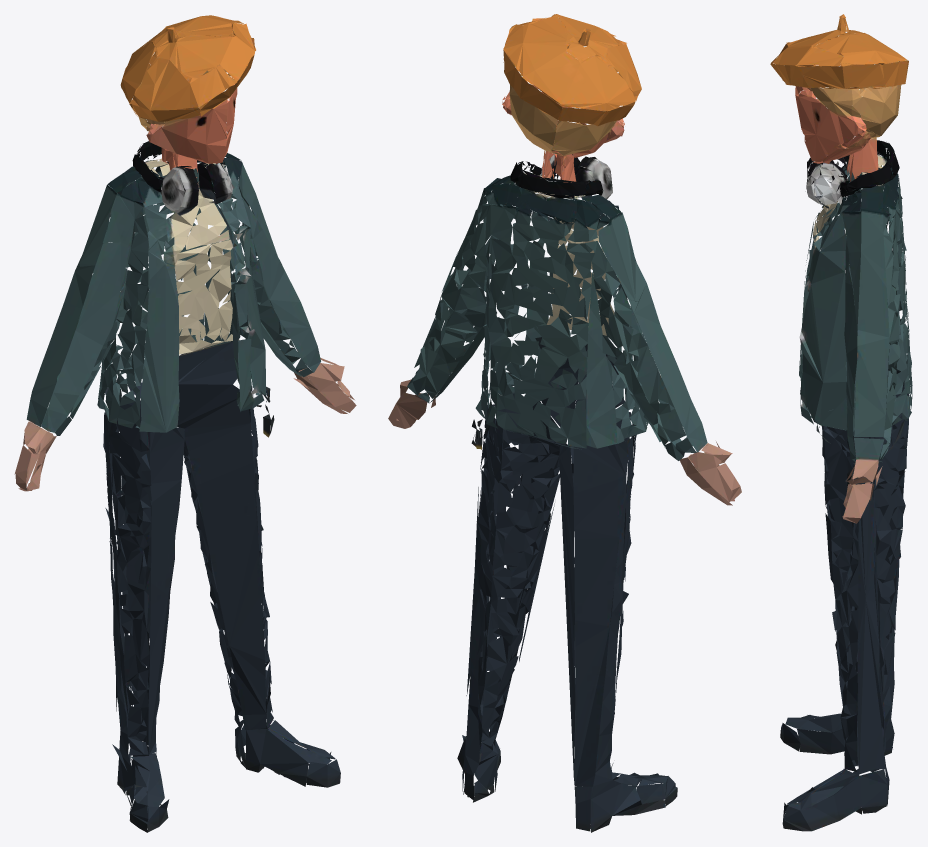
File: habitant.glb
3 renders of one model, left to right at view 1: azimuth 30°, elevation 25°; view 2: azimuth 150°, elevation 25°; view 3: azimuth 270°, elevation 25°, orthographic. The views are drawn at different scales.
Visible parts, largest first — view 1: world; view 2: world; view 3: world.
Boxes of the visible parts, x1,y1,x2,y2 form: world: (14, 15, 356, 832); world: (388, 14, 741, 832); world: (770, 14, 912, 831).
Size of the model in its own units: 0.4612 by 1 by 0.1737.
Materials: 1 (1 with a texture image).
